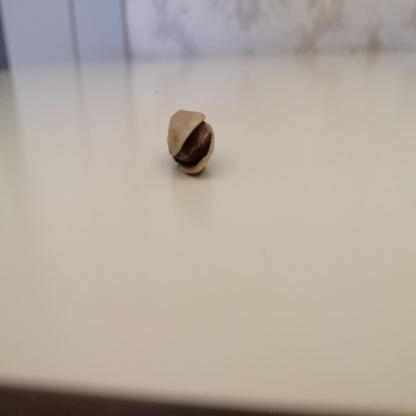pistachio: (160, 104, 224, 178)
